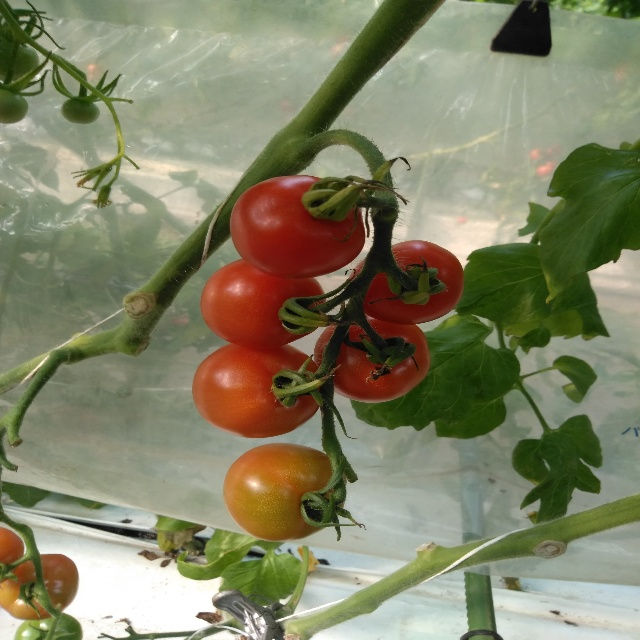l_fully_ripened: (230, 175, 366, 279), (200, 258, 328, 350), (313, 313, 430, 403), (349, 240, 464, 325)
l_green: (13, 612, 83, 640), (0, 37, 40, 83), (0, 88, 29, 124), (60, 98, 99, 124)
l_half_ripened: (192, 343, 327, 438), (222, 442, 347, 542), (0, 554, 80, 621), (0, 527, 26, 583)
